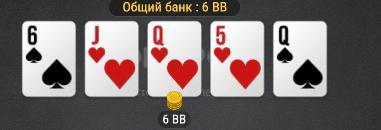5h: (211, 22, 263, 97)
6s: (23, 22, 75, 96)
Jh: (87, 22, 137, 96)
Qh: (148, 22, 200, 96)
Qs: (274, 23, 326, 97)
